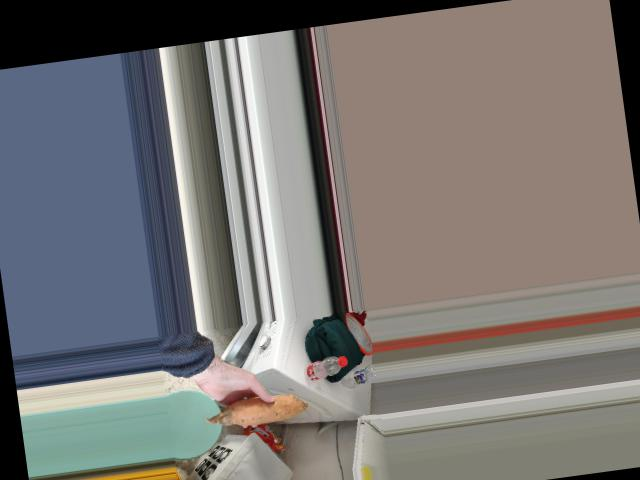sweet_potato: (217, 393, 306, 427)
